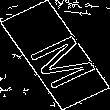M_NE: (14, 22, 96, 88)
